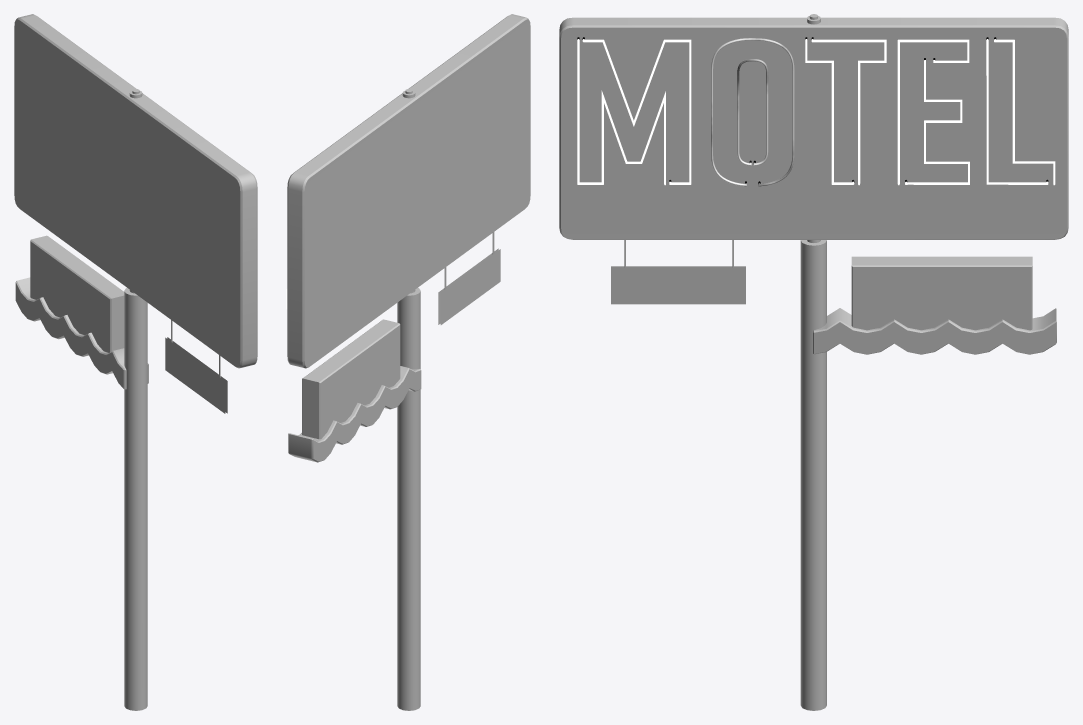
The model's file is Motel_Signboard.fbx.
The picture shows the model from 3 angles, left to right: view 1: azimuth 30°, elevation 25°; view 2: azimuth 150°, elevation 25°; view 3: azimuth 270°, elevation 25°; orthographic projection. The views are drawn at different scales.
Visible parts, largest first — view 1: Motel_Signboard; view 2: Motel_Signboard; view 3: Motel_Signboard.
Part boxes in pixels (x1,y1,x2,y2): Motel_Signboard: [14, 14, 257, 710]; Motel_Signboard: [286, 14, 530, 710]; Motel_Signboard: [559, 14, 1068, 710].
Size of the model in its own units: 0.6739 by 14.37 by 9.62.
